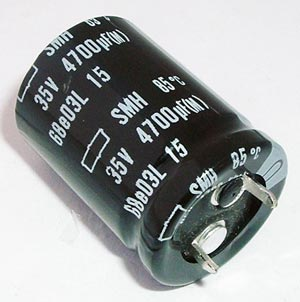capacitor: (14, 8, 279, 299)
